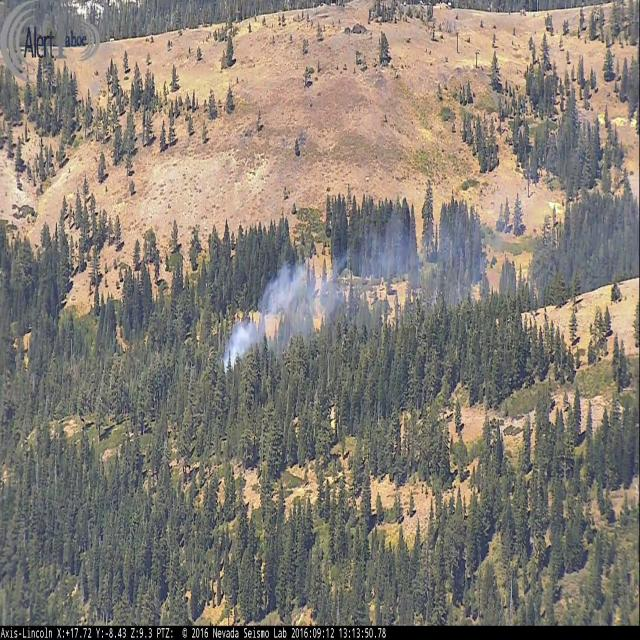smoke: (220, 168, 640, 376)
